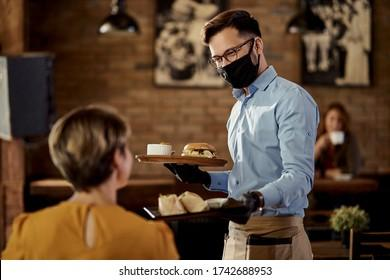gloves: (220, 196, 257, 225), (164, 162, 210, 185)
